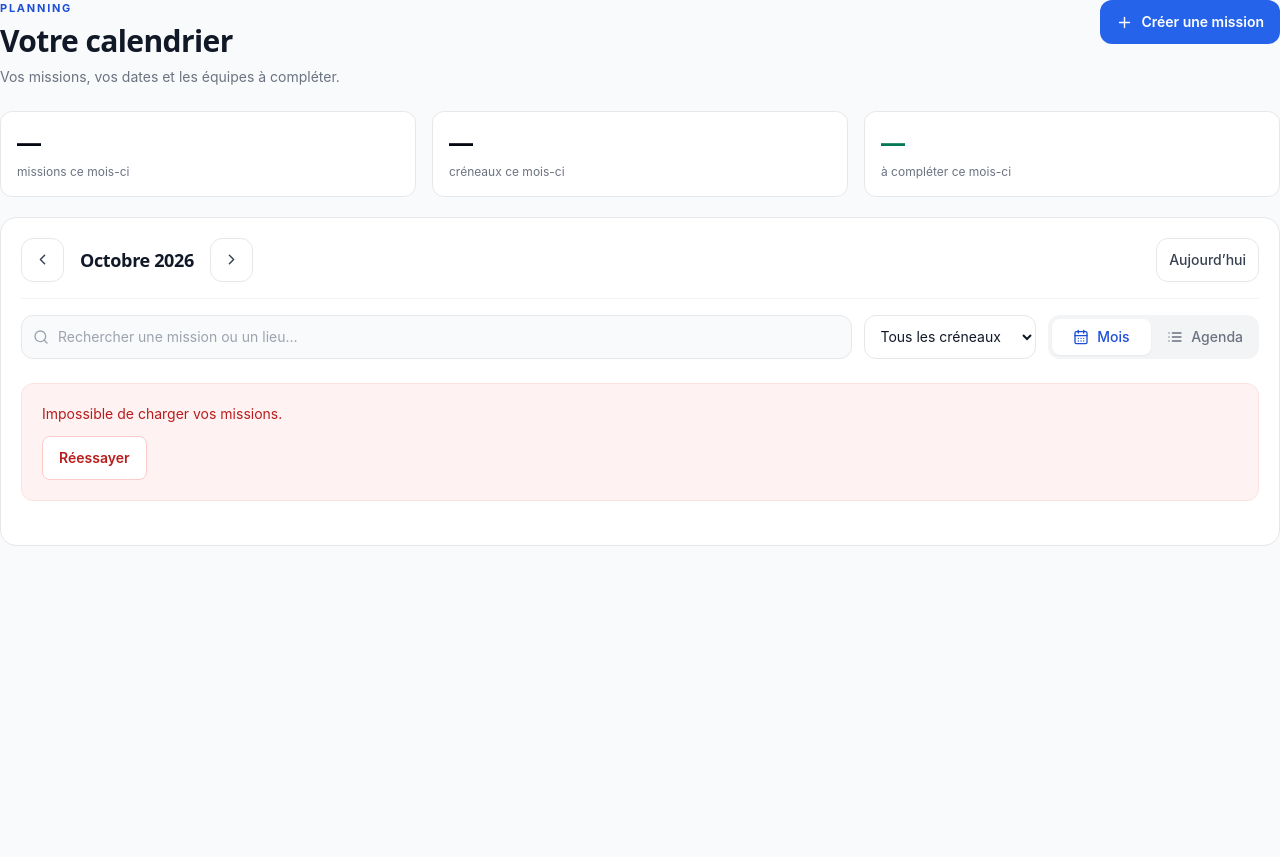
Test: a failed load is not shown as an empty calendar and can be retried
The image size is (1280, 857).
Expected: the message "Impossible de charger vos missions. Réessayer" is shown, [21, 382, 1259, 500]
Click the button "Réessayer" at {"x": 94, "y": 458}, box [42, 436, 146, 480]
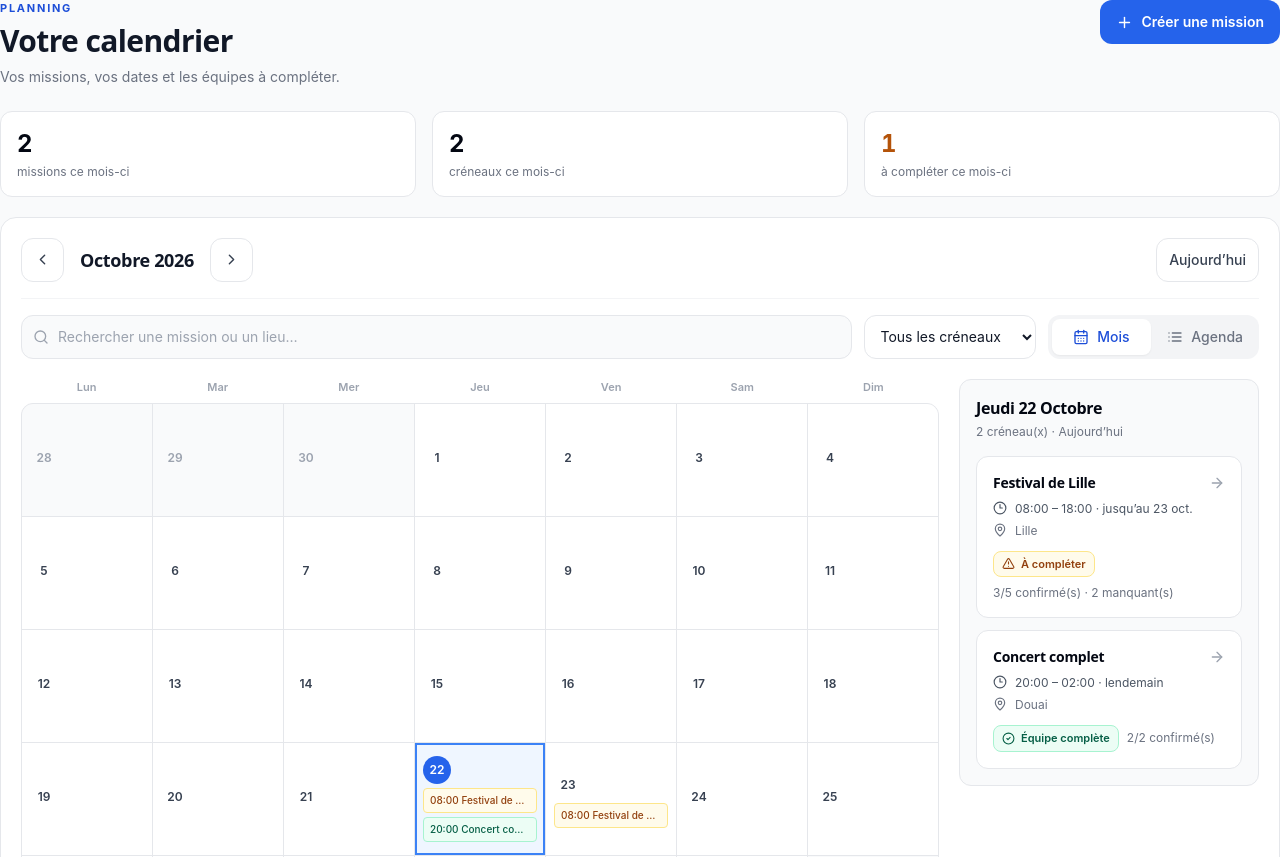
Expected: the message "Impossible de charger vos missions. Réessayer" is gone
Expected: the text "Festival de Lille" is shown, [461, 794, 534, 806]
